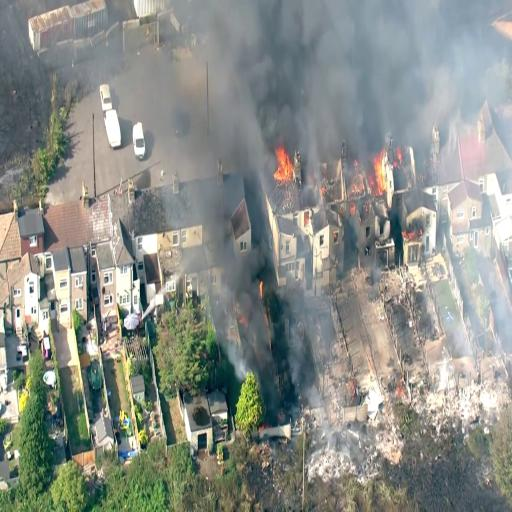fire: (269, 140, 299, 189), (370, 148, 390, 198)
smoke: (229, 0, 361, 139), (313, 0, 429, 122)
